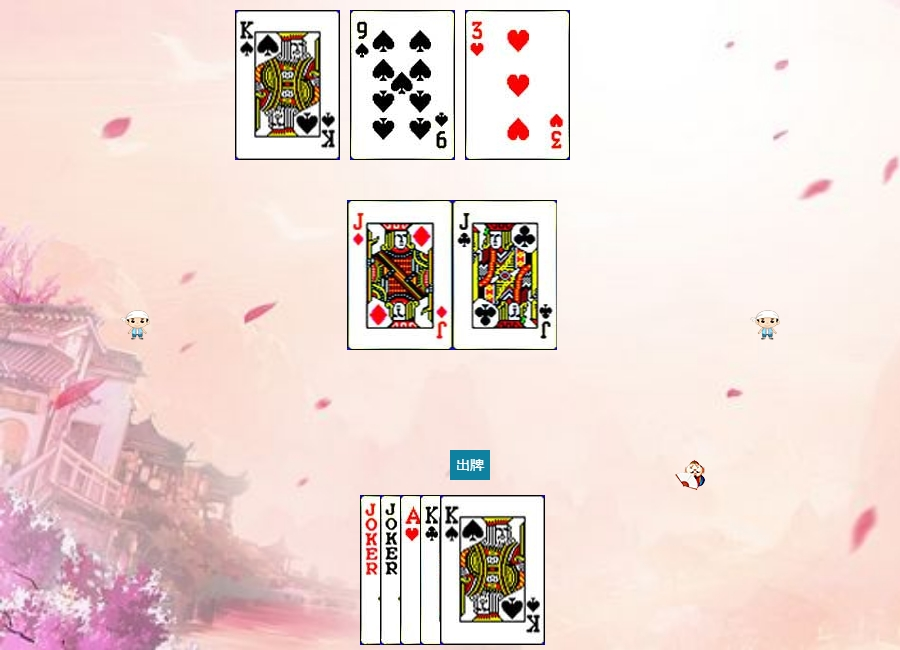11~1: (348, 200, 453, 350)
11~2: (453, 200, 558, 350)
13~2: (420, 495, 525, 645)
13~4: (235, 10, 340, 160), (440, 495, 545, 645)
14~3: (400, 495, 505, 645)
17~3: (380, 495, 485, 645)
18~4: (360, 495, 465, 645)
3~3: (465, 10, 570, 160)
9~4: (350, 10, 455, 160)
